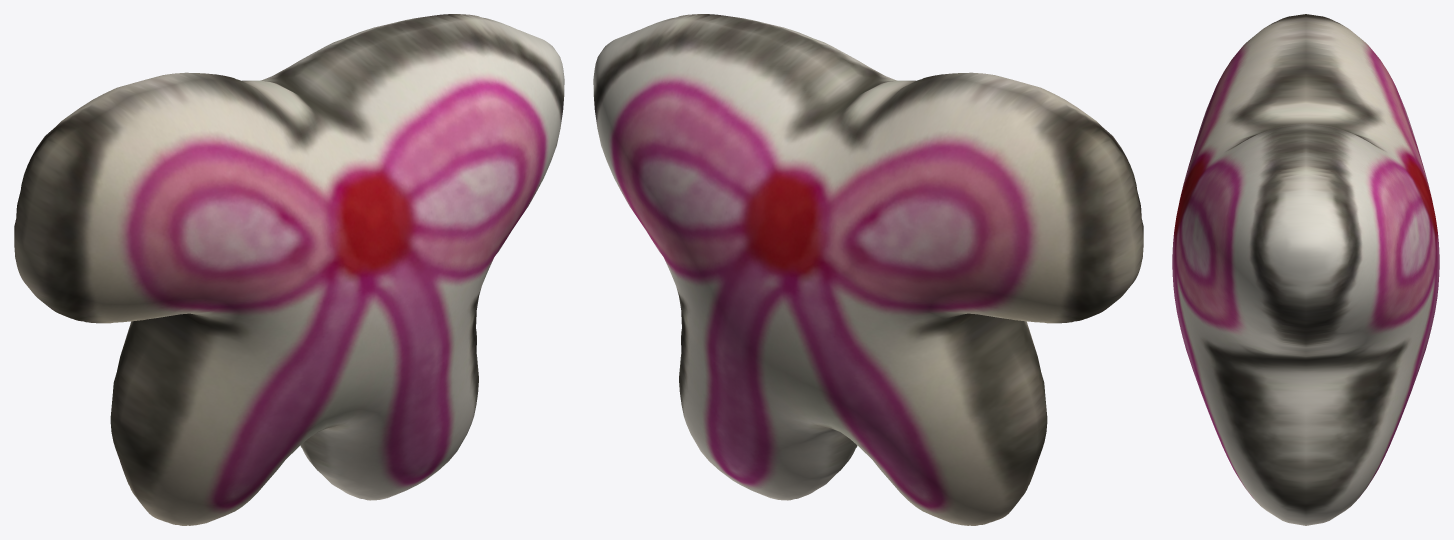
The picture shows the model from 3 angles, left to right: view 1: azimuth 30°, elevation 25°; view 2: azimuth 150°, elevation 25°; view 3: azimuth 270°, elevation 25°; orthographic projection. The views are drawn at different scales.
Bounding box in the file's own units: 4.5 × 3.7 × 2.25.
Materials: 1 (1 with a texture image).
